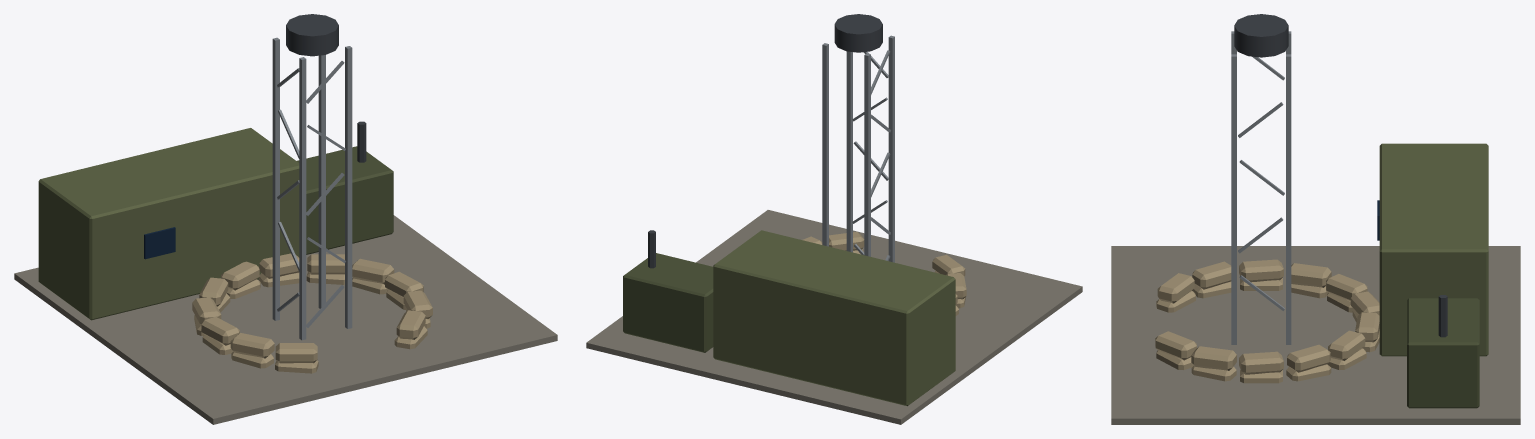
Rendered from radar.glb.
3 renders of one model, left to right at view 1: azimuth 30°, elevation 25°; view 2: azimuth 150°, elevation 25°; view 3: azimuth 270°, elevation 25°, orthographic. The views are drawn at different scales.
Visible parts, largest first — view 1: radar; view 2: radar; view 3: radar.
Boxes of the visible parts, x1=… form: radar: x1=14, y1=14, x2=557, y2=424; radar: x1=586, y1=14, x2=1082, y2=424; radar: x1=1111, y1=14, x2=1520, y2=424.
Bounding box in the file's own units: 9 × 7.6 × 9.
